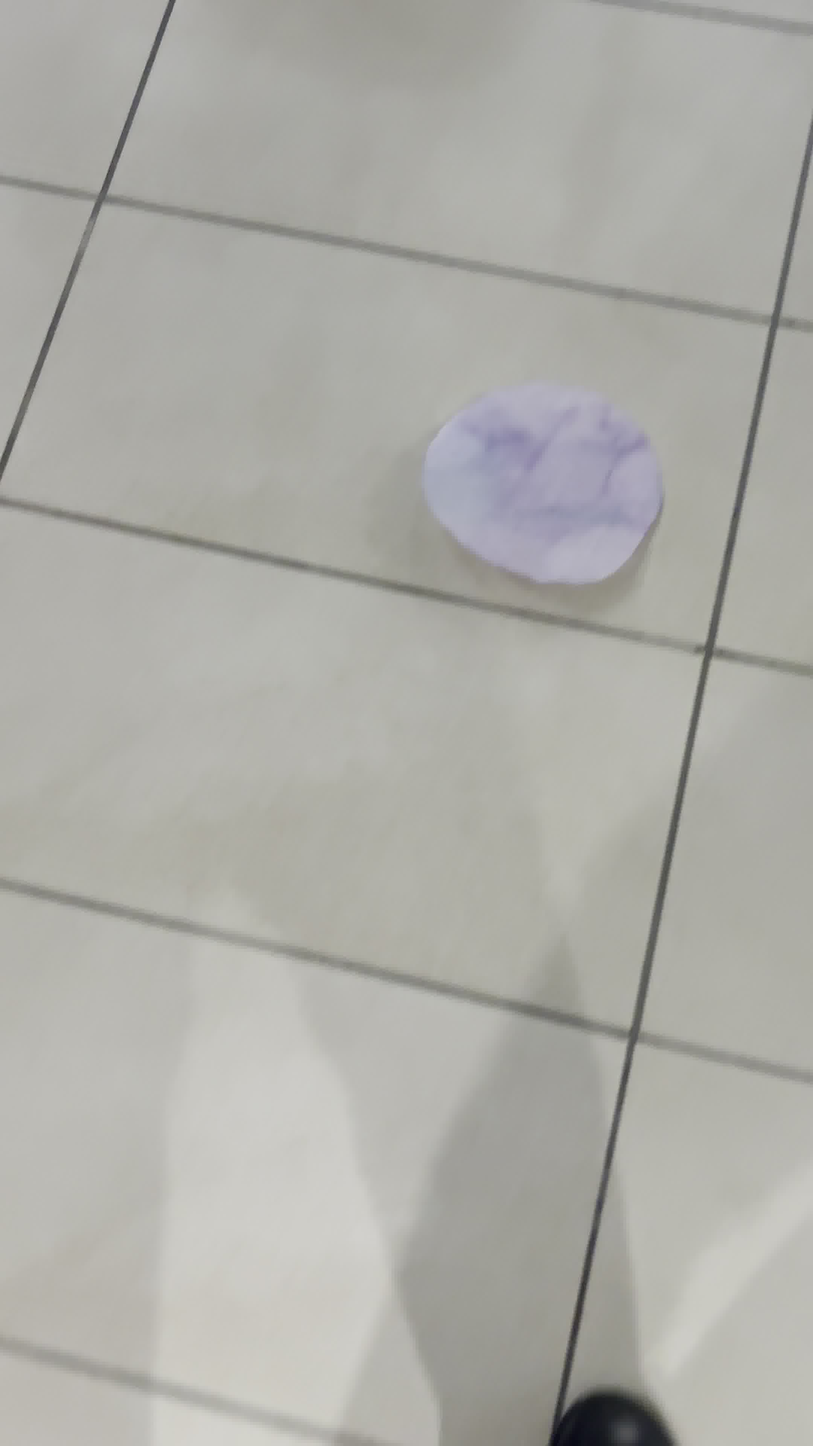Target: (409, 373, 665, 591)
